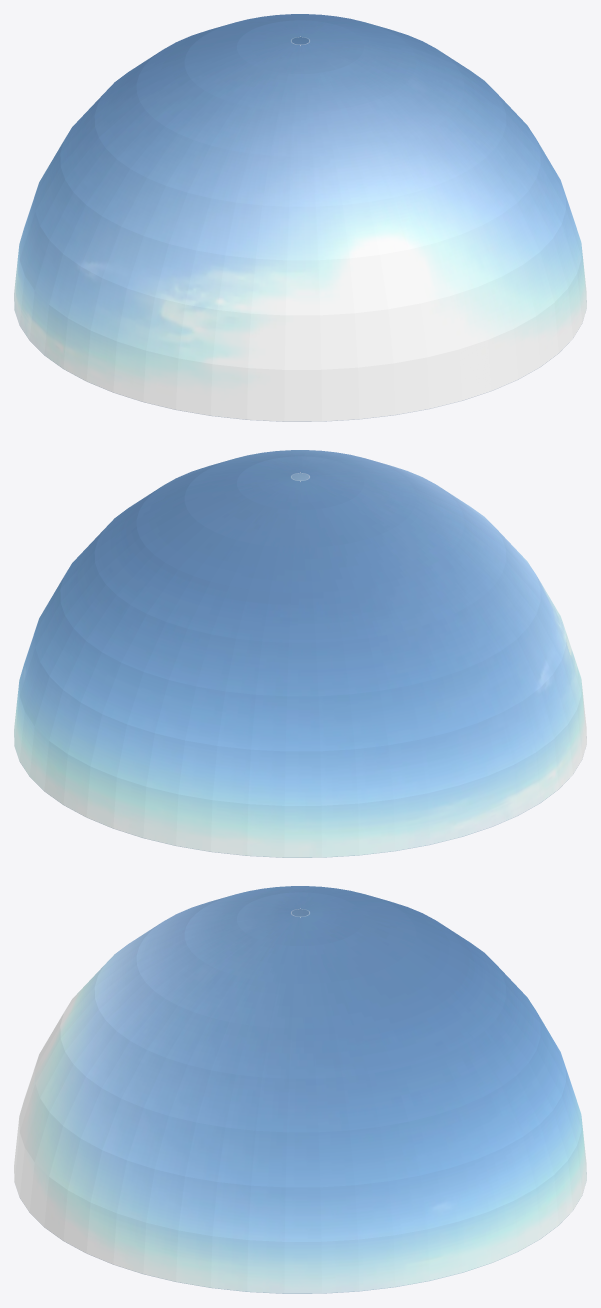
File: outremont.glb
3 views of the same model, one above another, from view 1: azimuth 30°, elevation 25°; view 2: azimuth 150°, elevation 25°; view 3: azimuth 270°, elevation 25° (orthographic).
Visible parts, largest first — view 1: outremont_ciel; view 2: outremont_ciel; view 3: outremont_ciel.
Part boxes in pixels (box(x1,y1,x2,y2)): outremont_ciel: box(14, 14, 586, 421); outremont_ciel: box(14, 450, 586, 857); outremont_ciel: box(14, 886, 586, 1293).
Bounding box in the file's own units: 599 × 301 × 599.
142 materials, 63 textured.
